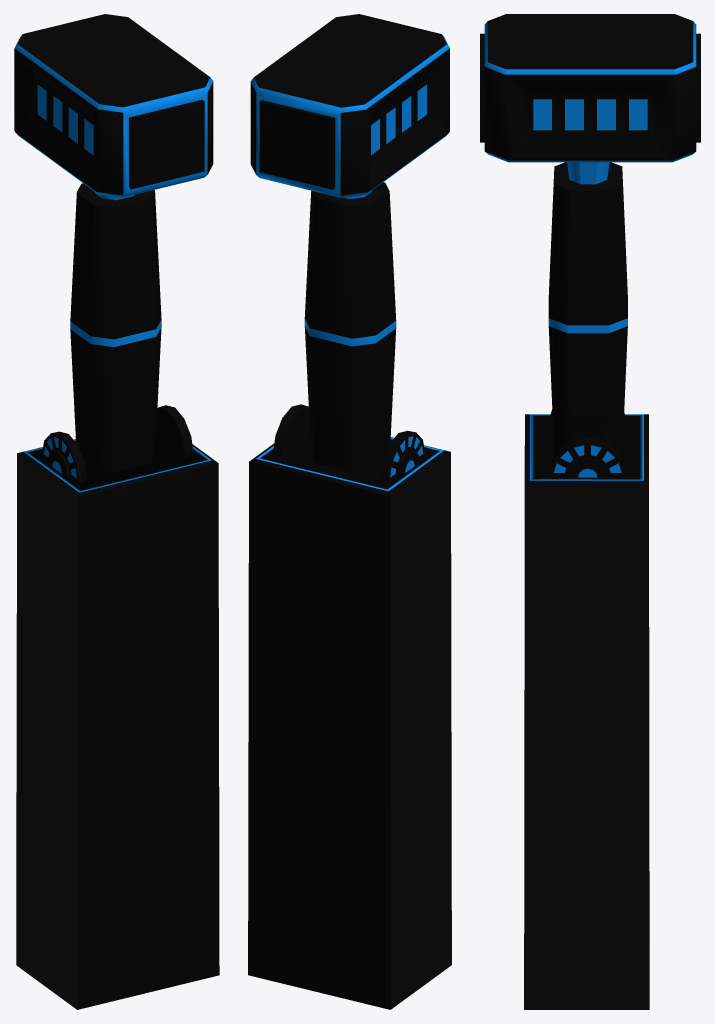
File: Hammer.FBX
3 views of the same model, side by side, from view 1: azimuth 30°, elevation 25°; view 2: azimuth 150°, elevation 25°; view 3: azimuth 270°, elevation 25° (orthographic). The views are drawn at different scales.
Visible parts, largest first — view 1: Cylinder109, Hammer, Hammer wheels, Hammer wheels002; view 2: Cylinder109, Hammer, Hammer wheels, Hammer wheels002; view 3: Cylinder109, Hammer, Hammer wheels002.
Part boxes in pixels (<box>): Cylinder109: <box>16,436,219,1009</box>; Hammer: <box>14,14,213,472</box>; Hammer wheels: <box>41,431,86,483</box>; Hammer wheels002: <box>156,405,193,457</box>; Cylinder109: <box>248,436,451,1009</box>; Hammer: <box>250,14,449,471</box>; Hammer wheels: <box>380,430,425,482</box>; Hammer wheels002: <box>273,404,310,456</box>; Cylinder109: <box>524,414,649,1009</box>; Hammer: <box>480,14,700,455</box>; Hammer wheels002: <box>549,437,625,477</box>.
Size of the model in its own units: 114 by 699 by 150.
